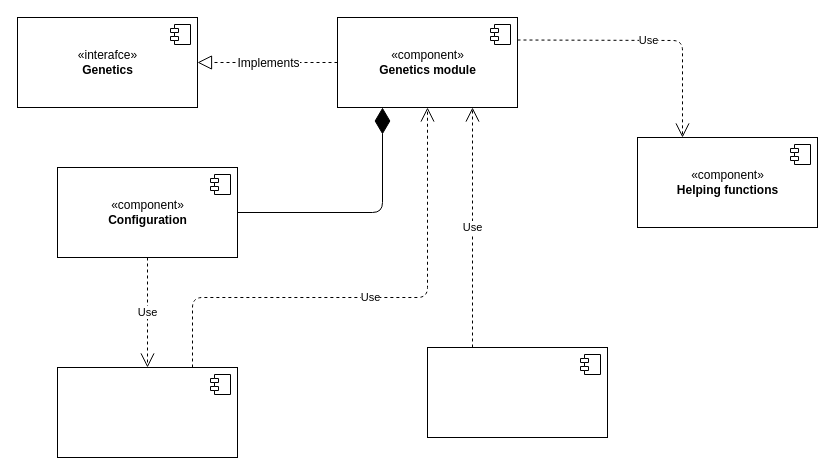
This 835x475 diagram has some shape labels left out. Here are the shapes that lost their labels. From the top down, the box of each, then its label:
(56, 366, 238, 458): «component» I/O handler
(426, 346, 608, 438): «component» Threading
